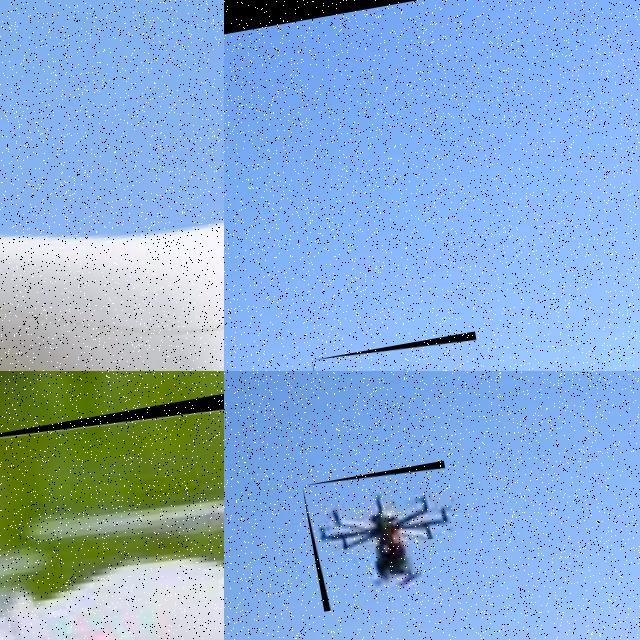0: (302, 460, 466, 611), (311, 330, 498, 371)
drone: (0, 0, 224, 371), (0, 371, 224, 640)
